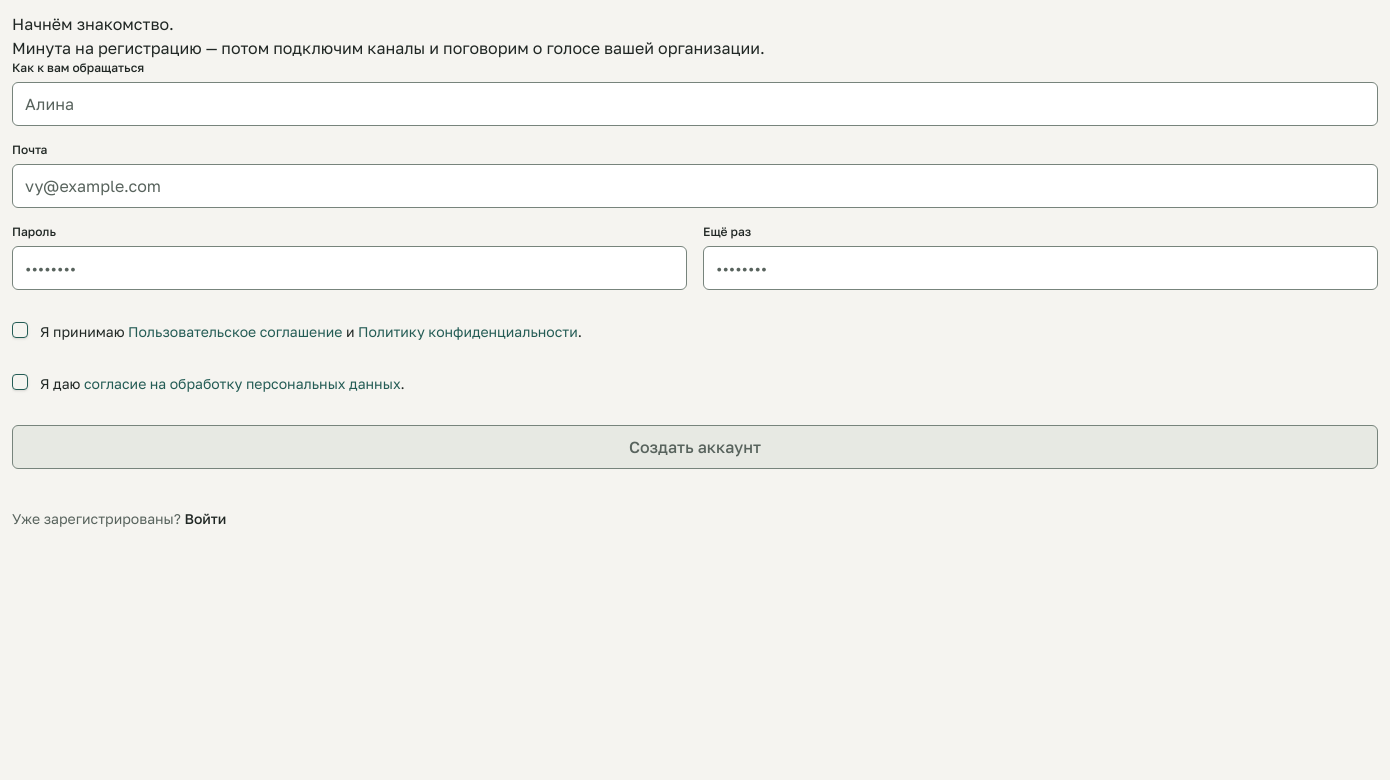
Test case: keeps other server validation branches separate (400)
The image size is (1390, 780).
In the field with id "name": (695, 104) [12,82,1378,126], type "Owner"
In the field with id "email": (695, 186) [12,164,1378,208], type "owner@example.org"
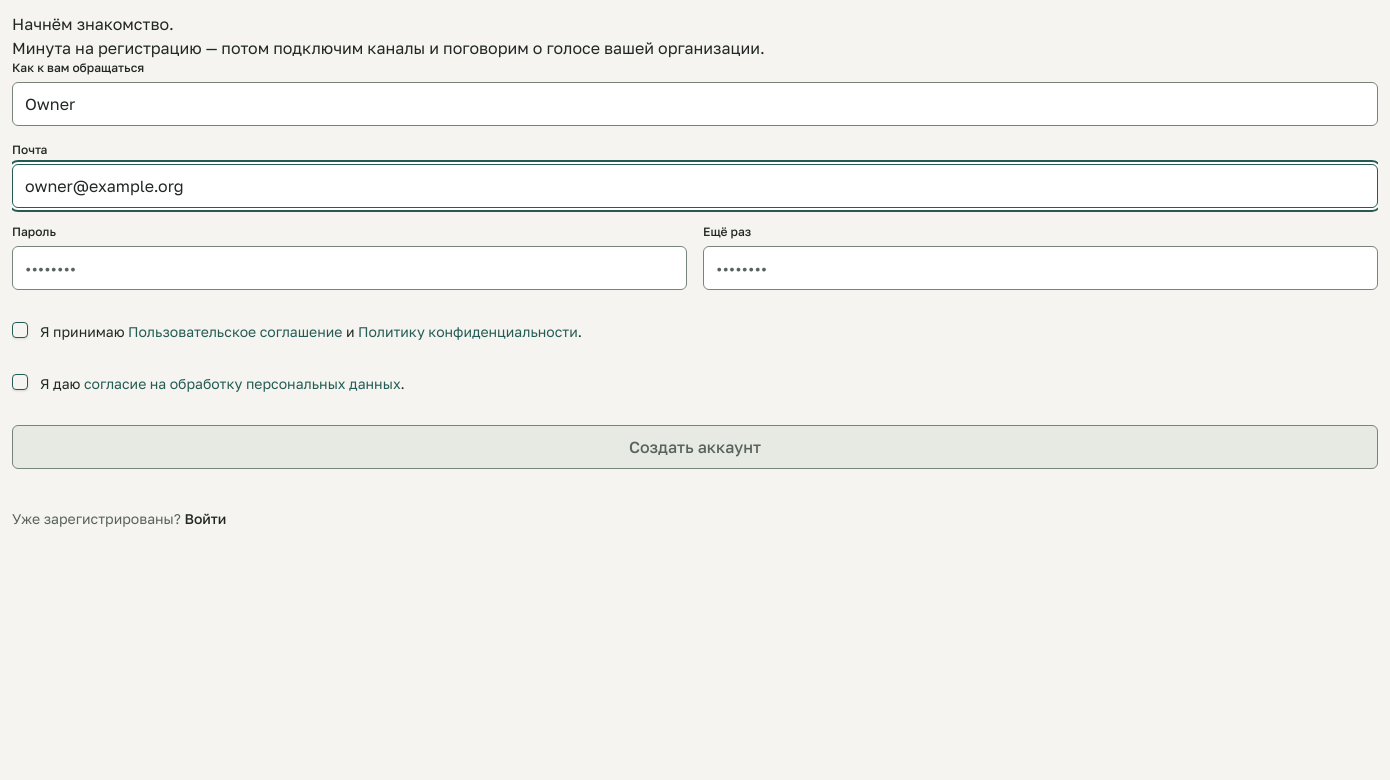
In the password field labelled "Пароль": (350, 268) [12,246,687,290], type "12345678"
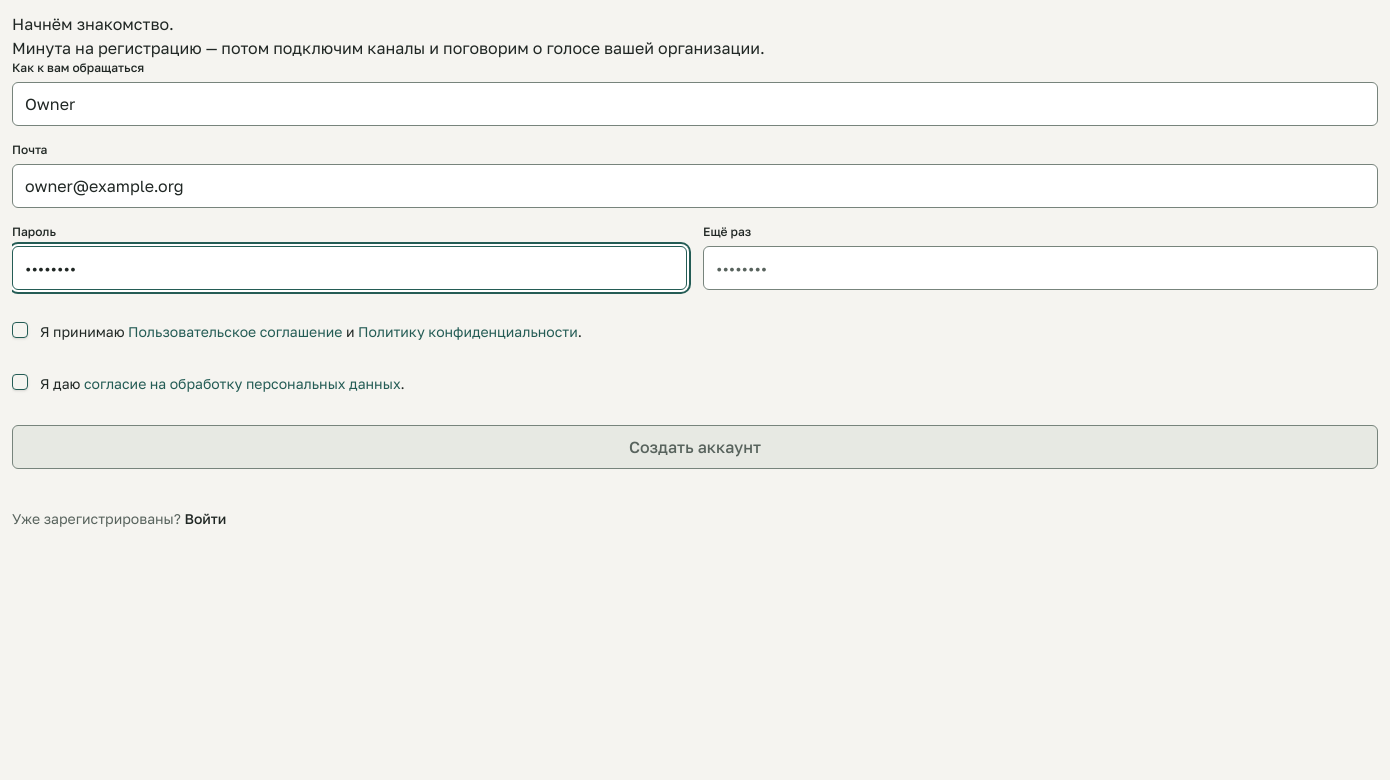
In the password field with id "confirmPassword": (1040, 268) [703,246,1378,290], type "12345678"
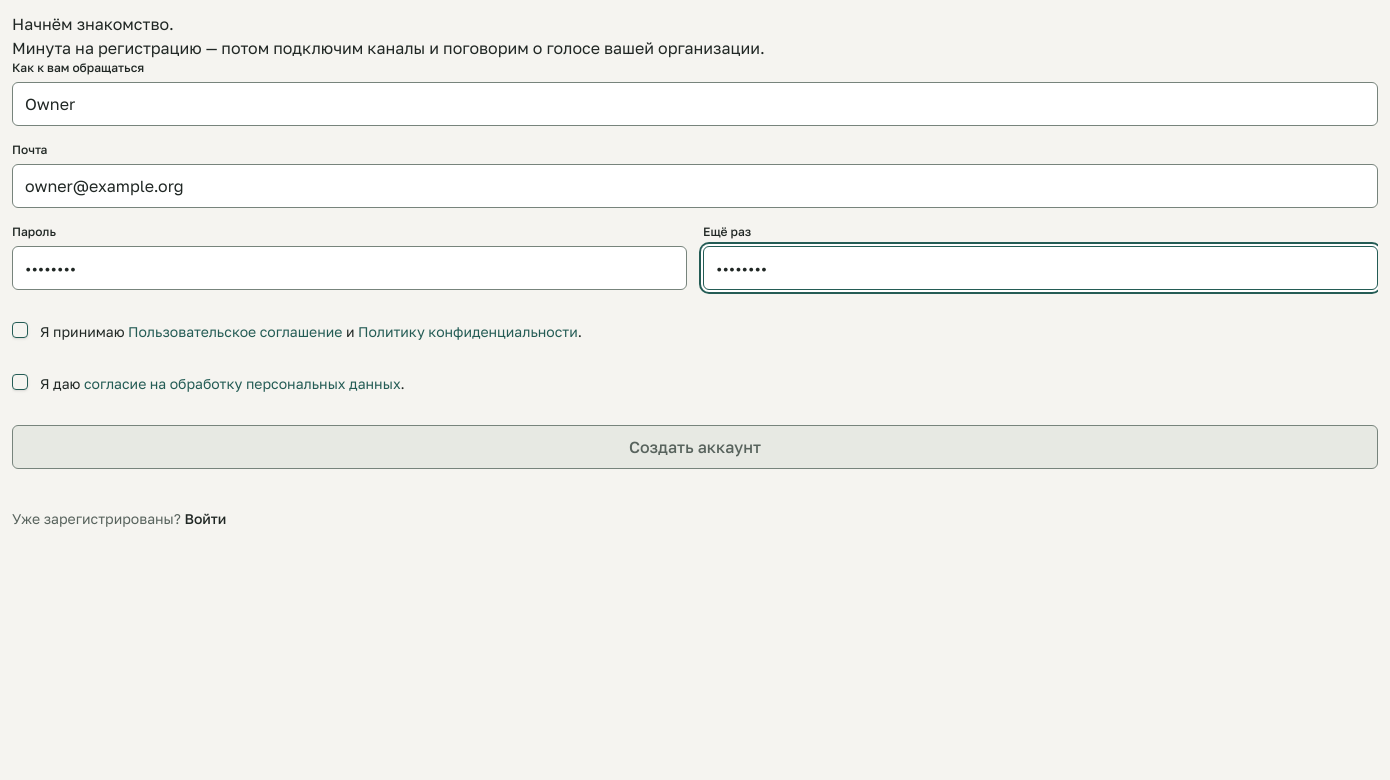
Click the checkbox next to "Я принимаю": (20, 330) [12,322,28,338]
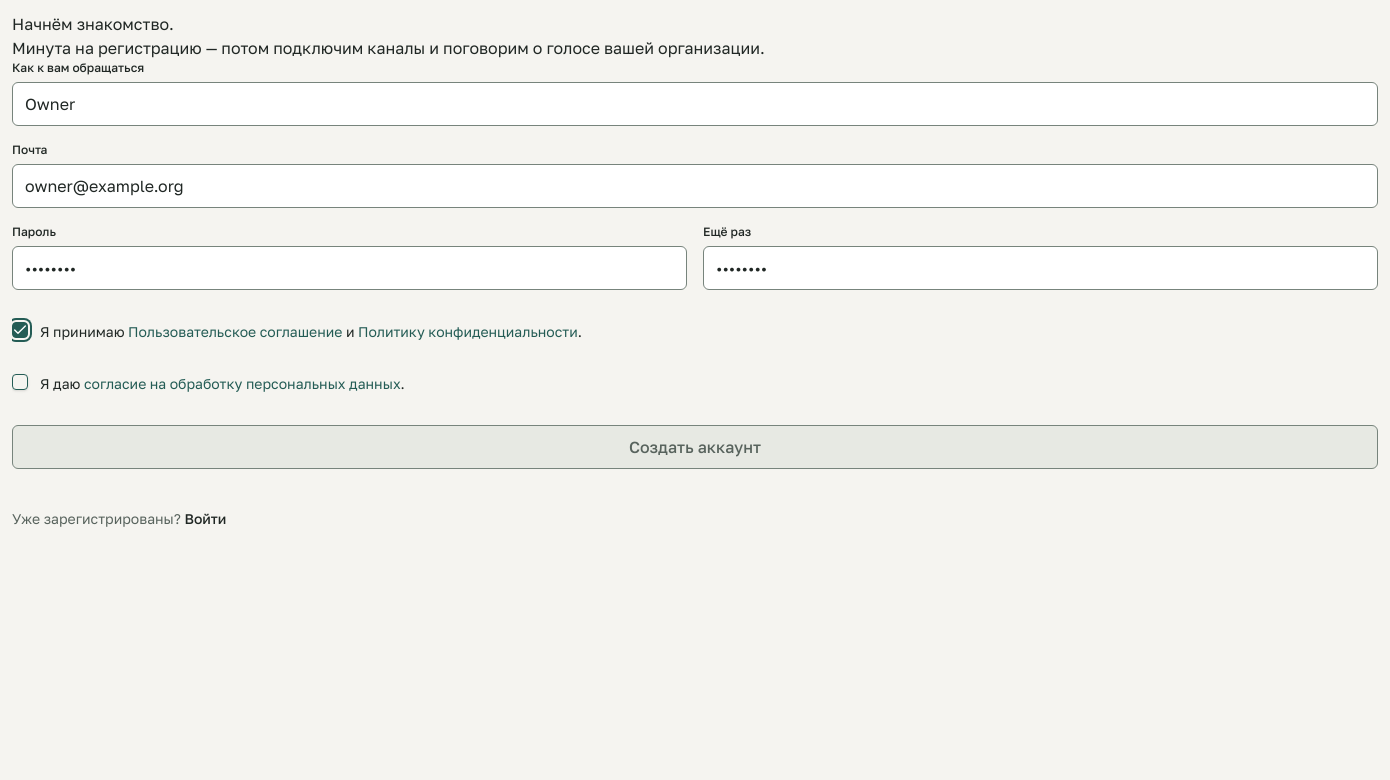
Click the checkbox next to "Я даю": (20, 382) [12,374,28,390]
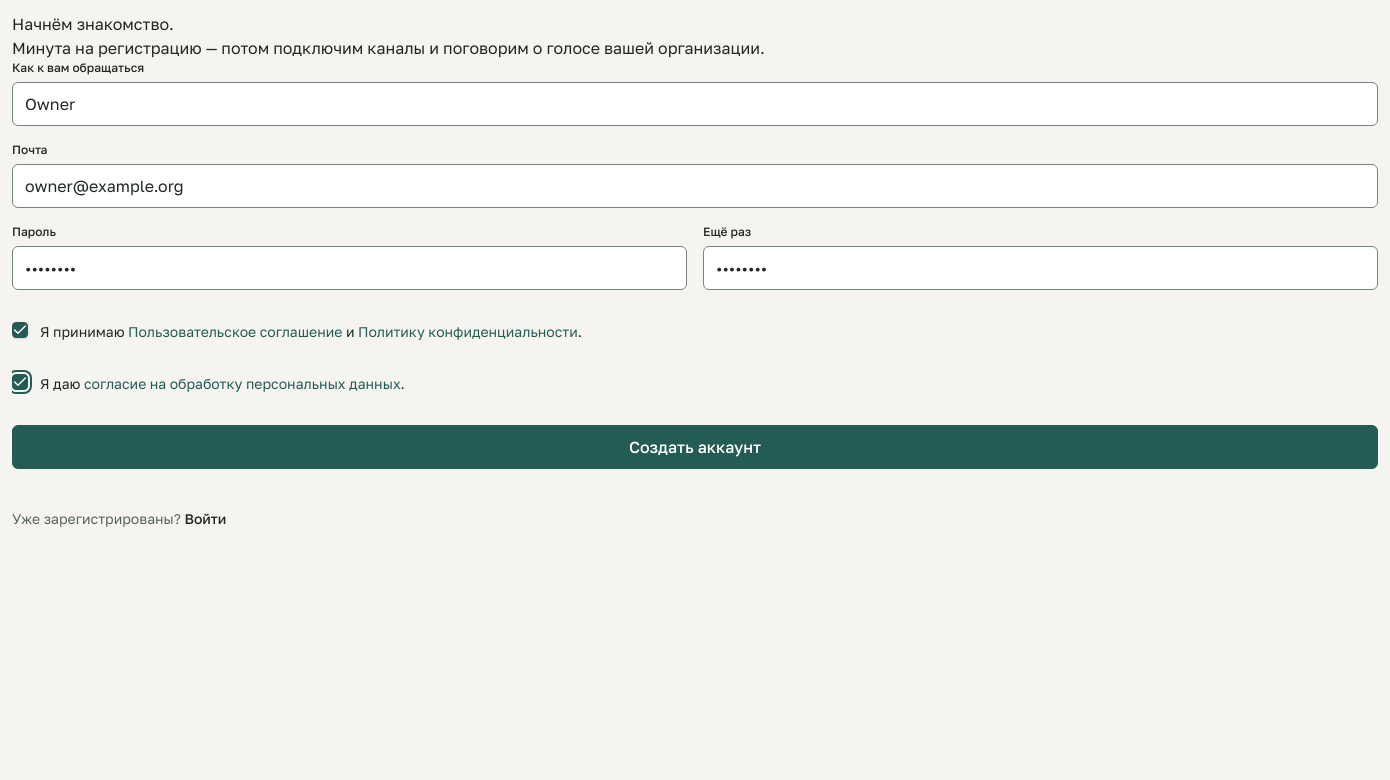
Click the submit button: (695, 447) [12,425,1378,469]
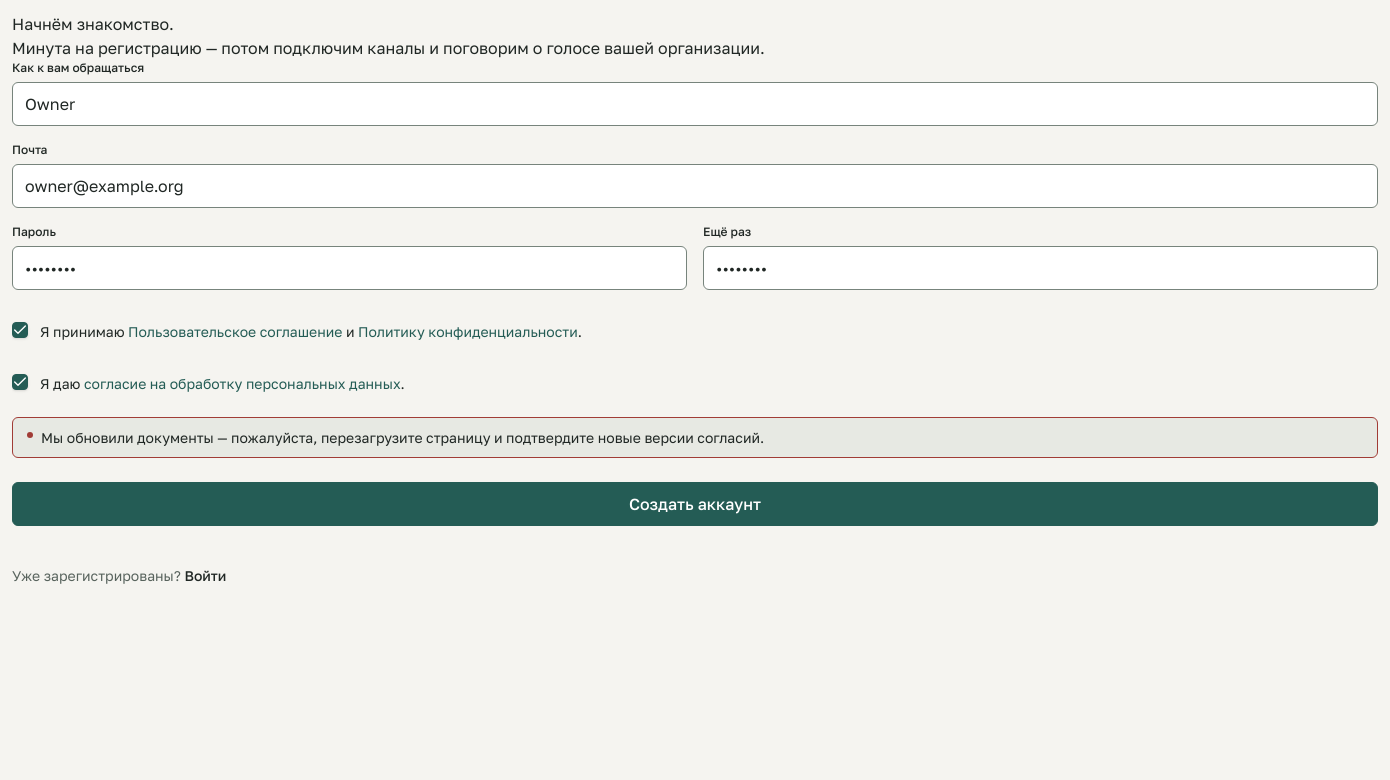
Result: the text "Мы обновили документы — пожалуйста, перезагрузите страницу и подтвердите новые версии согласий." is shown at [41,429,764,446]
